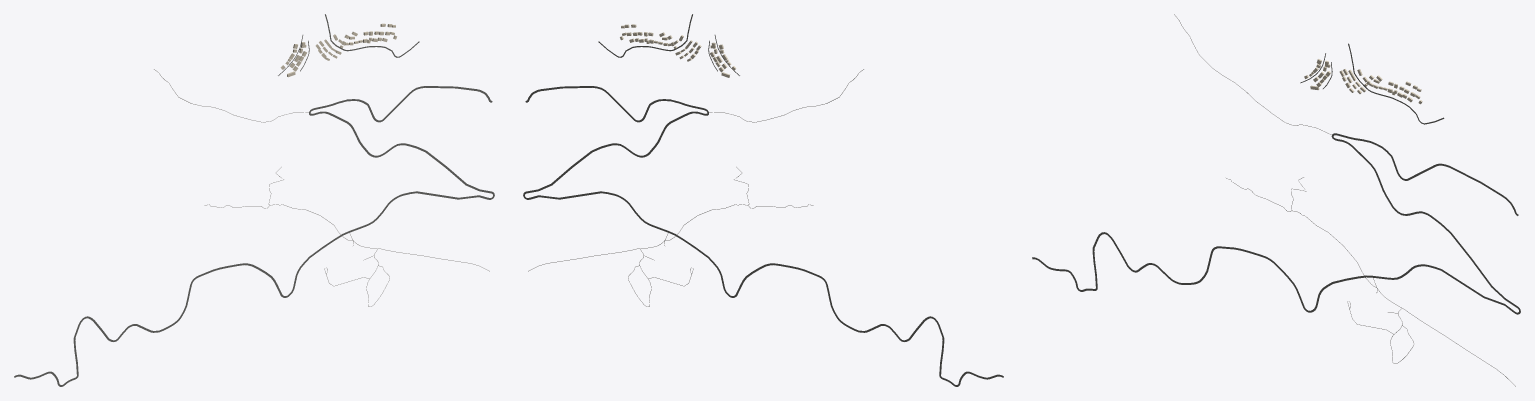
The model's file is historic-palestine-08_33_3504_3275.glb.
3 renders of one model, left to right at view 1: azimuth 30°, elevation 25°; view 2: azimuth 150°, elevation 25°; view 3: azimuth 330°, elevation 25°, orthographic.
Visible parts, largest first — view 1: Road הכלניות; view 2: Road הכלניות; view 3: Road הכלניות.
Boxes of the visible parts, box(x1,y1,x2,y2) form: Road הכלניות: box(14, 86, 494, 386); Road הכלניות: box(523, 86, 1003, 386); Road הכלניות: box(1032, 133, 1520, 314).
Size of the model in its own units: 2120 by 1300 by 8.7.
